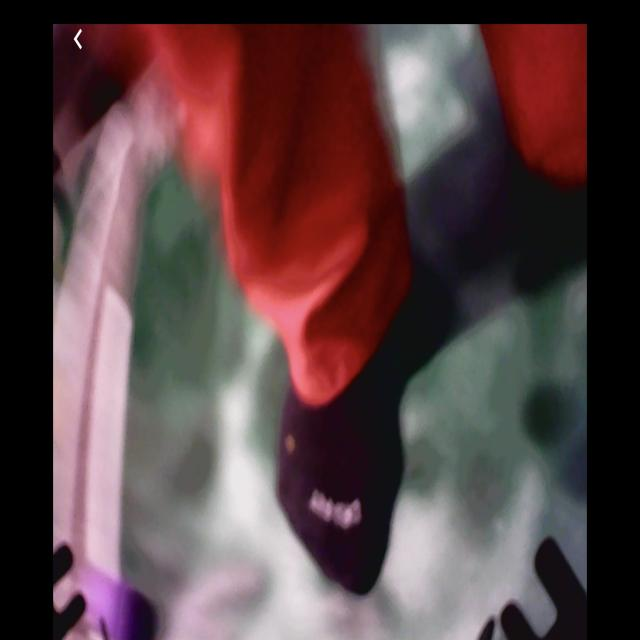ball: (63, 564, 133, 640)
